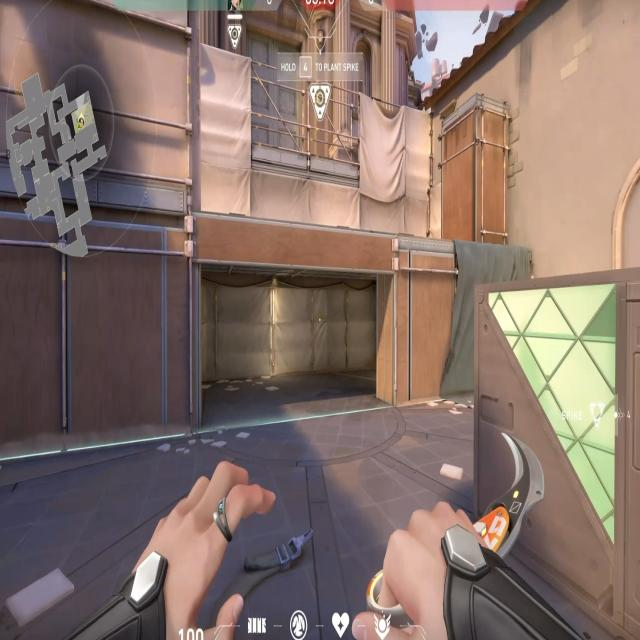A_Heaven_Box: (439, 95, 513, 248)
A_Heaven_Wall: (0, 0, 199, 220)
A_Hell: (182, 206, 404, 439)
